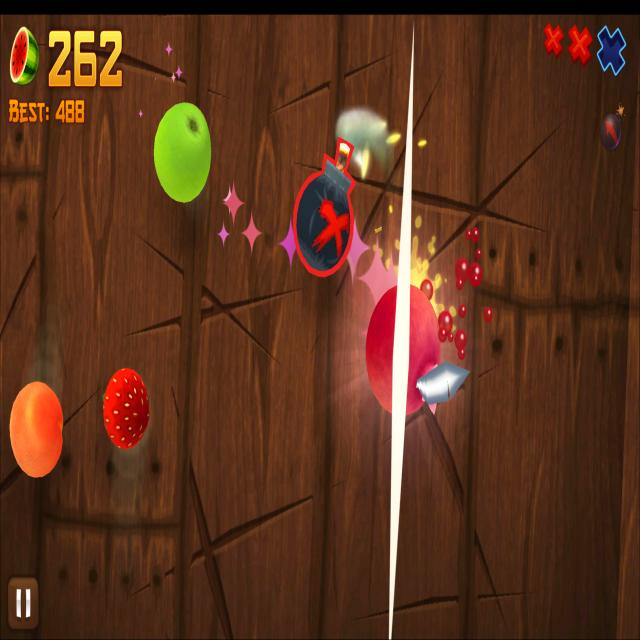bomb: (293, 137, 357, 277)
fruit: (367, 284, 441, 415), (153, 102, 211, 202), (9, 380, 64, 479), (102, 370, 151, 450)
